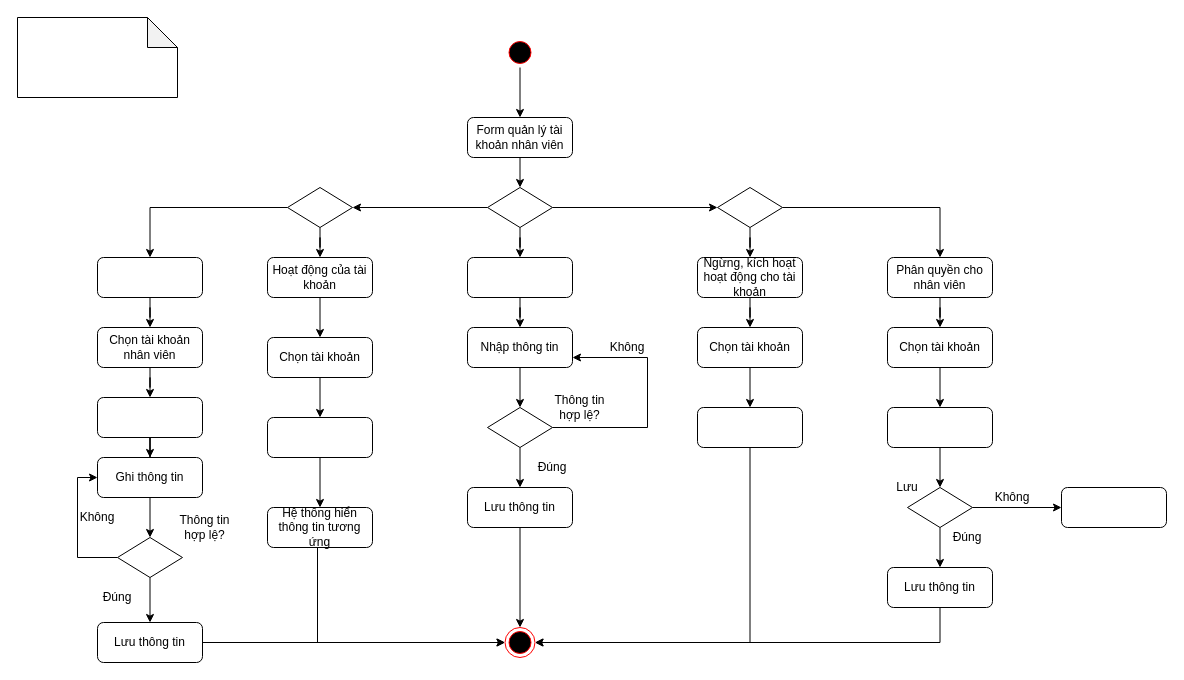
Image size: 1184x680. Some labels were removed from this diagram. Here are the shapes that lost their labels. From the top down, the centre of each, then its label:
the point at 97,57: Quản lý tài khoản nhân viên
the point at 149,277: Ghi thông tin tăng ca, ngày nghỉ
the point at 519,277: Thêm tài khoản
the point at 149,417: Chọn biểu mẫu
the point at 319,437: Chọn ngày/ tháng/ năm
the point at 749,427: Kích hoạt/ Ngưng tài khoản
the point at 939,427: Chọn quyền cho tài khoản
the point at 1113,507: Hủy kết quả
